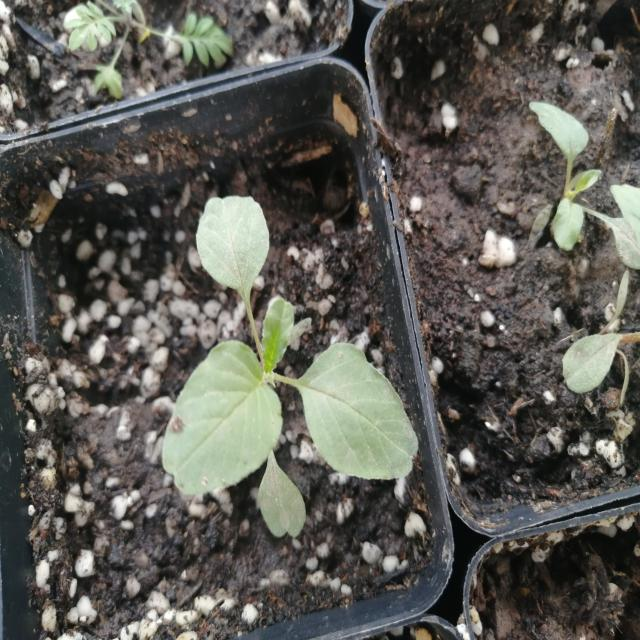pigweed: (162, 189, 414, 515)
